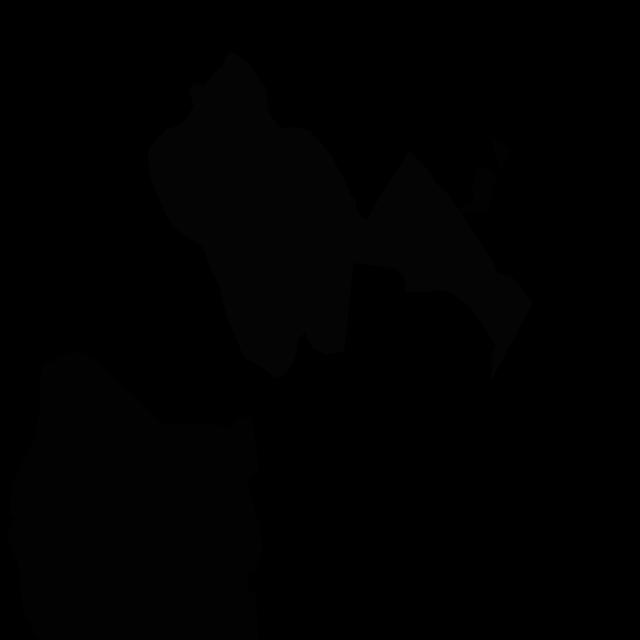cardboard: (10, 352, 248, 640), (162, 414, 263, 574), (5, 517, 111, 640), (206, 583, 258, 640), (457, 166, 497, 214), (489, 136, 512, 170)
soft_plastic: (148, 51, 366, 379), (305, 150, 533, 382)
